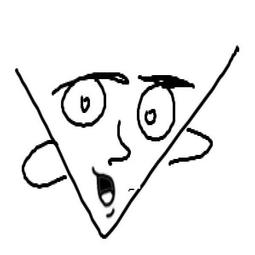ear: (165, 122, 218, 173), (19, 136, 66, 192)
eye: (57, 69, 110, 131), (136, 80, 177, 145)
nose: (103, 121, 132, 171)
open_mouth: (87, 168, 117, 217)
